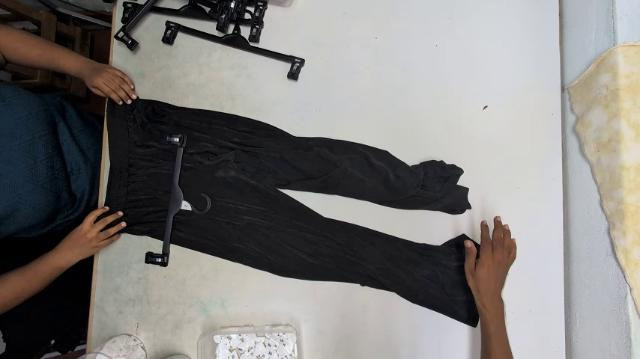new-garment: (106, 100, 477, 326)
